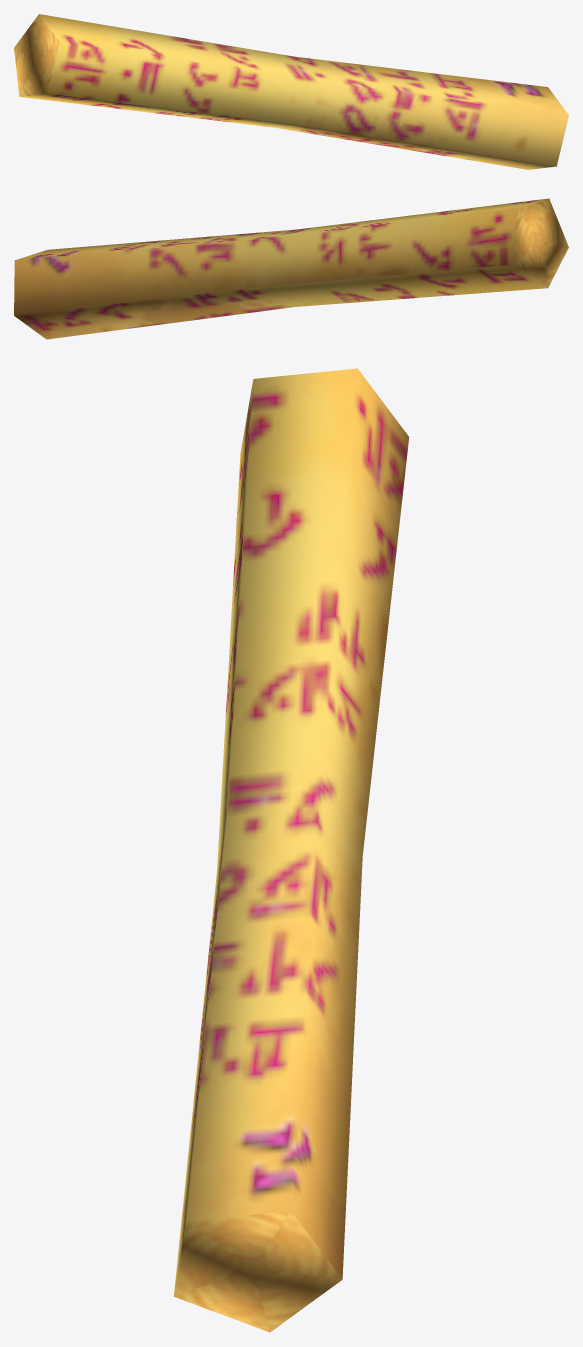
File: WitchCraftScroll_Drifter.fbx
The picture shows the model from 3 angles, top to bottom: view 1: azimuth 30°, elevation 25°; view 2: azimuth 150°, elevation 25°; view 3: azimuth 270°, elevation 25°; orthographic projection. The views are drawn at different scales.
Parts seen in each view (by area): view 1: scrolls2; view 2: scrolls2; view 3: scrolls2.
Boxes of the visible parts, x1,y1,x2,y2 form: scrolls2: [14, 14, 568, 169]; scrolls2: [14, 198, 568, 339]; scrolls2: [173, 368, 409, 1332].
Bounding box in the file's own units: 0.7919 × 0.3714 × 0.156.
